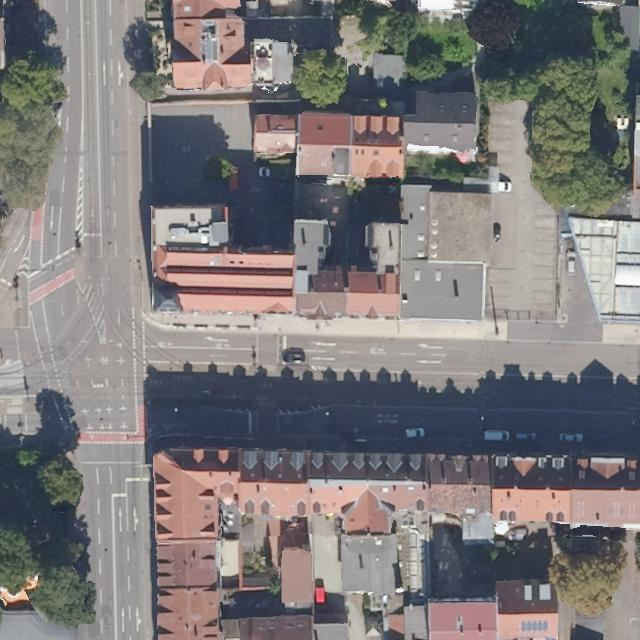PV: (519, 619, 550, 634)
